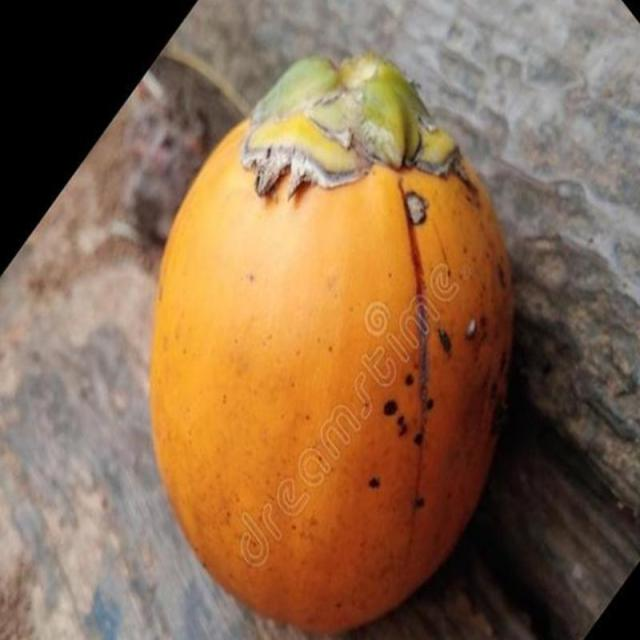good: (149, 53, 516, 639)
